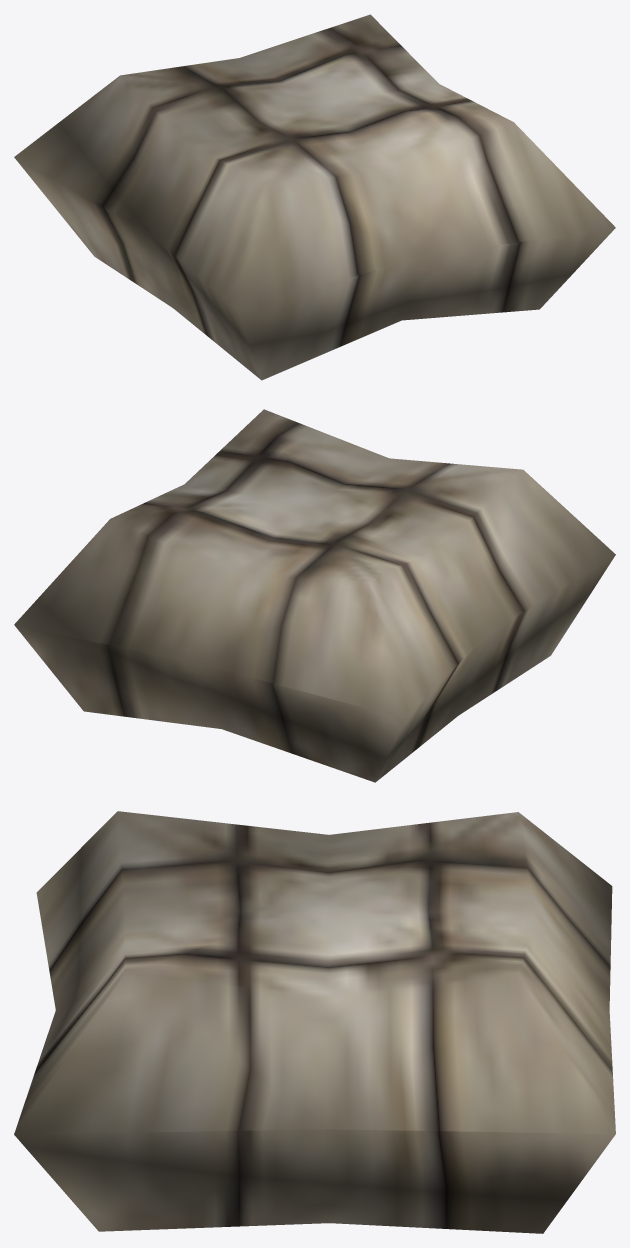
File: DN_lv3_hd_wood11.FBX
The picture shows the model from 3 angles, top to bottom: view 1: azimuth 30°, elevation 25°; view 2: azimuth 150°, elevation 25°; view 3: azimuth 270°, elevation 25°; orthographic projection. The views are drawn at different scales.
Parts seen in each view (by area): view 1: DN_lv3_hd_wood11; view 2: DN_lv3_hd_wood11; view 3: DN_lv3_hd_wood11.
Part boxes in pixels (bbox=[...]): DN_lv3_hd_wood11: bbox=[14, 14, 615, 380]; DN_lv3_hd_wood11: bbox=[14, 409, 615, 782]; DN_lv3_hd_wood11: bbox=[14, 811, 615, 1233].
Bounding box in the file's own units: 147 × 68.75 × 151.
